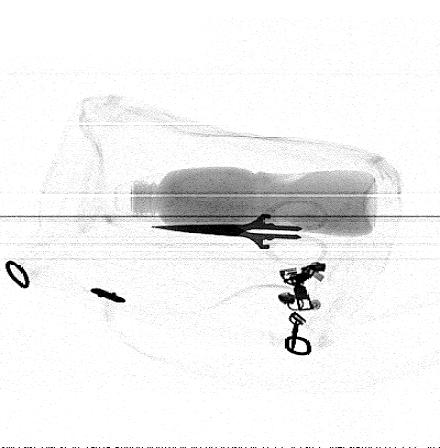Scissors: (151, 195, 333, 270)
